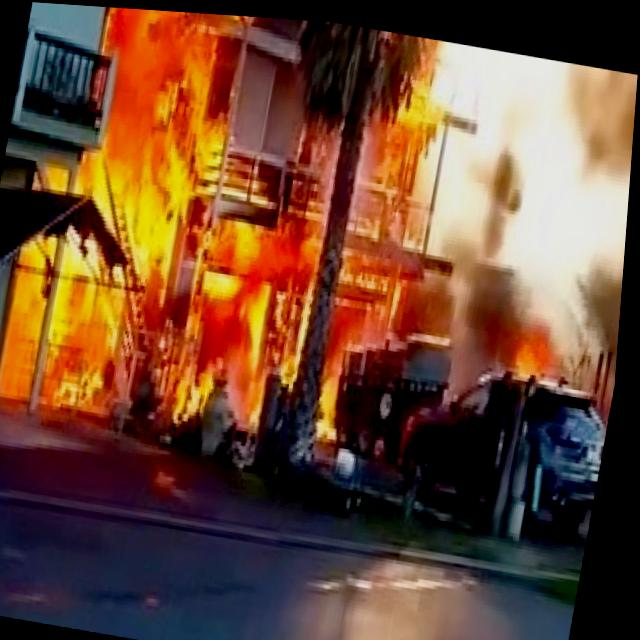fire: (87, 5, 222, 197), (89, 122, 196, 276)
smoke: (564, 89, 637, 391)
